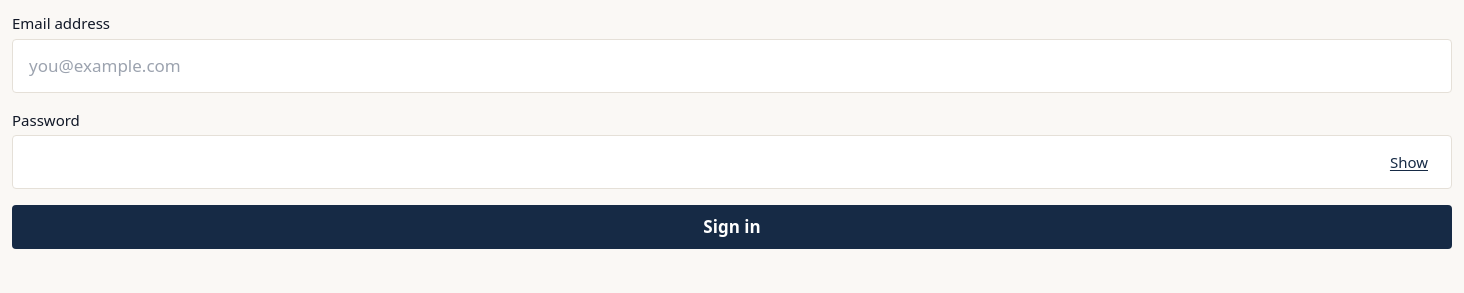
Test: auth forms — validation › invalid email shape is rejected with the copy-contract message
Type "not-an-email" into the field labelled "Email address". click: (732, 66)
box: [12,38,1452,92]
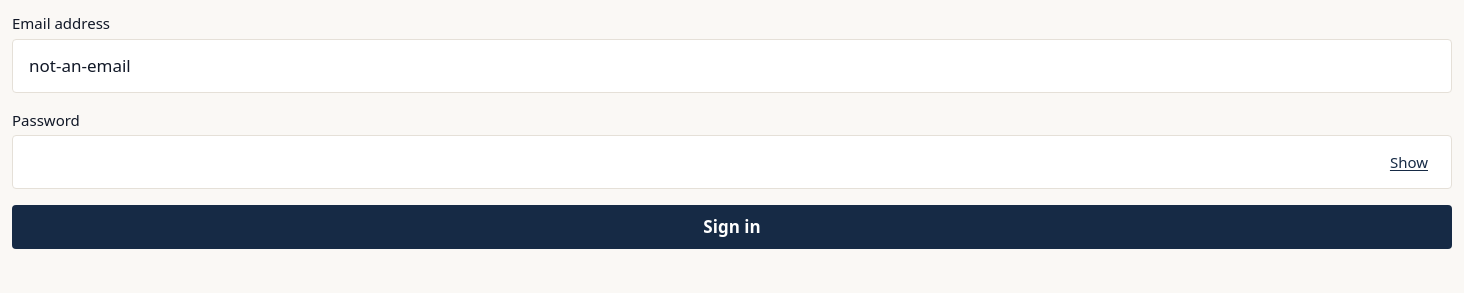
Type "password123" into the password field labelled "Password". click: (732, 162)
box: [12,135,1452,189]
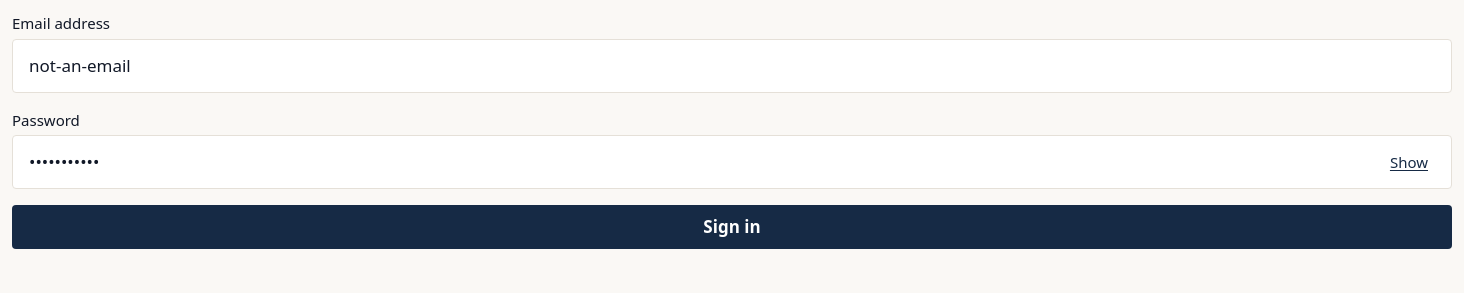
Click the button "Sign in". click: (732, 227)
box: [12,205,1452,249]
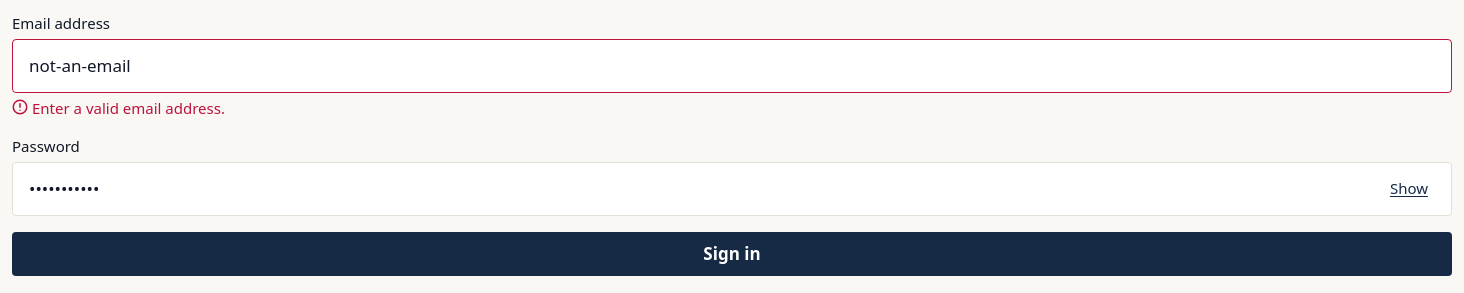
Expected: the text "Enter a valid email address." is shown, [32,96,225,119]
